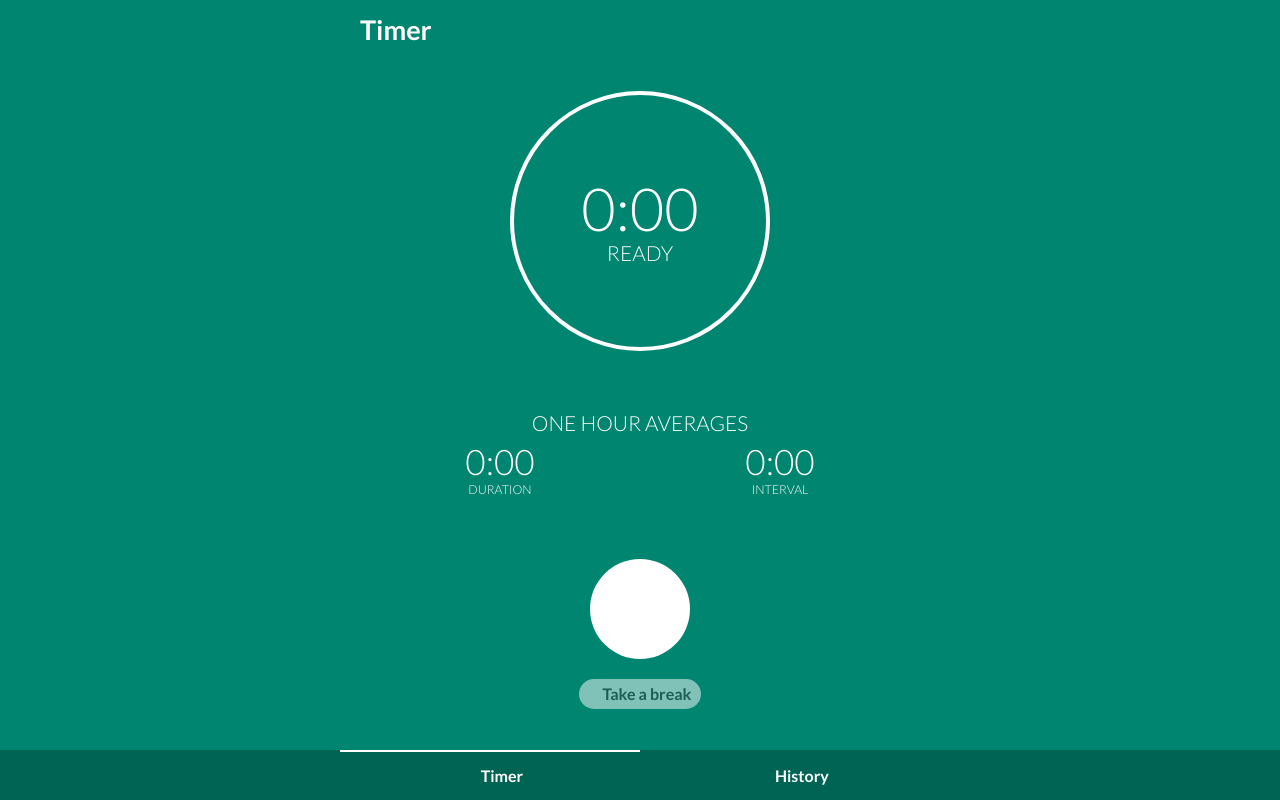
App tests › displays empty history when there are no completed contractions
What coordinates should you click on to do the following:
click the link "History"
I would click on:
 (790, 776)
Its box is [751,764,829,788].
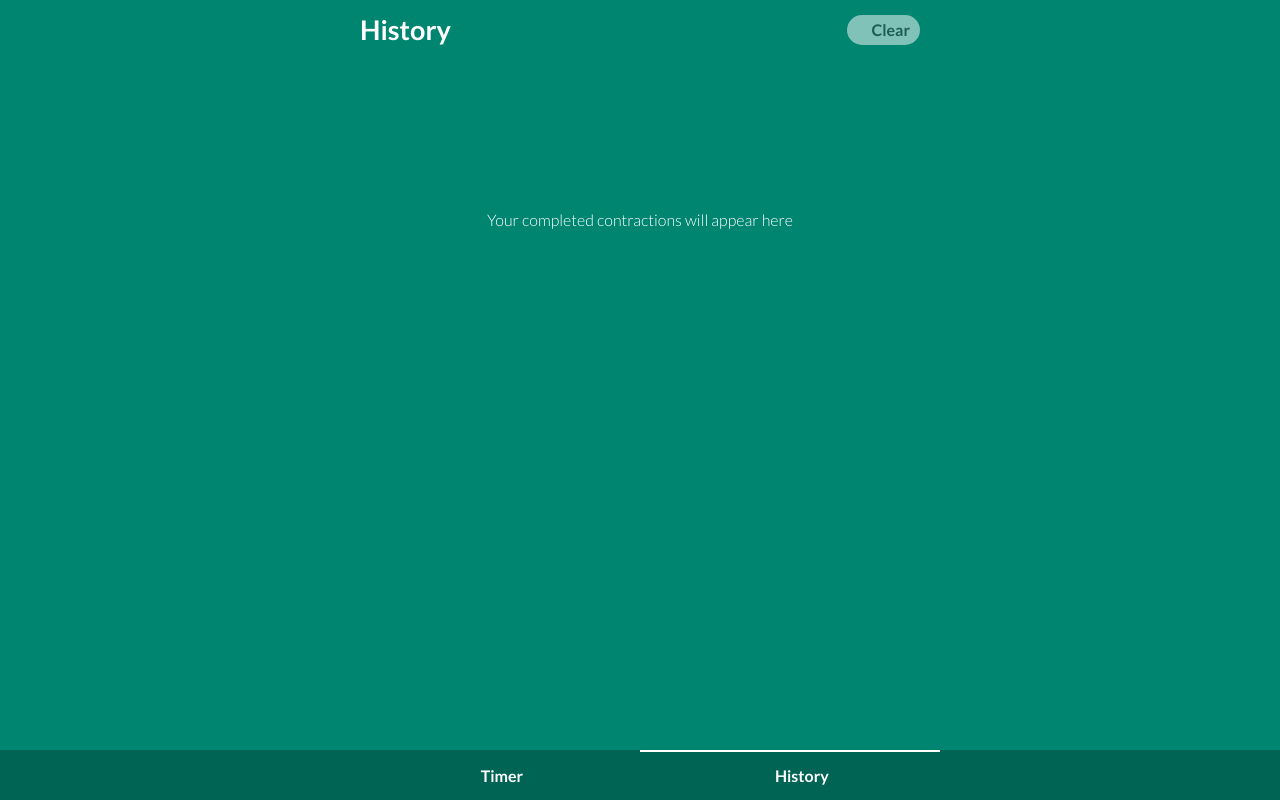
Expected: the text "Your completed contractions will appear here" is shown, [487,212,793,228]
Expected: the button "Clear" is shown, [848,15,920,45]
